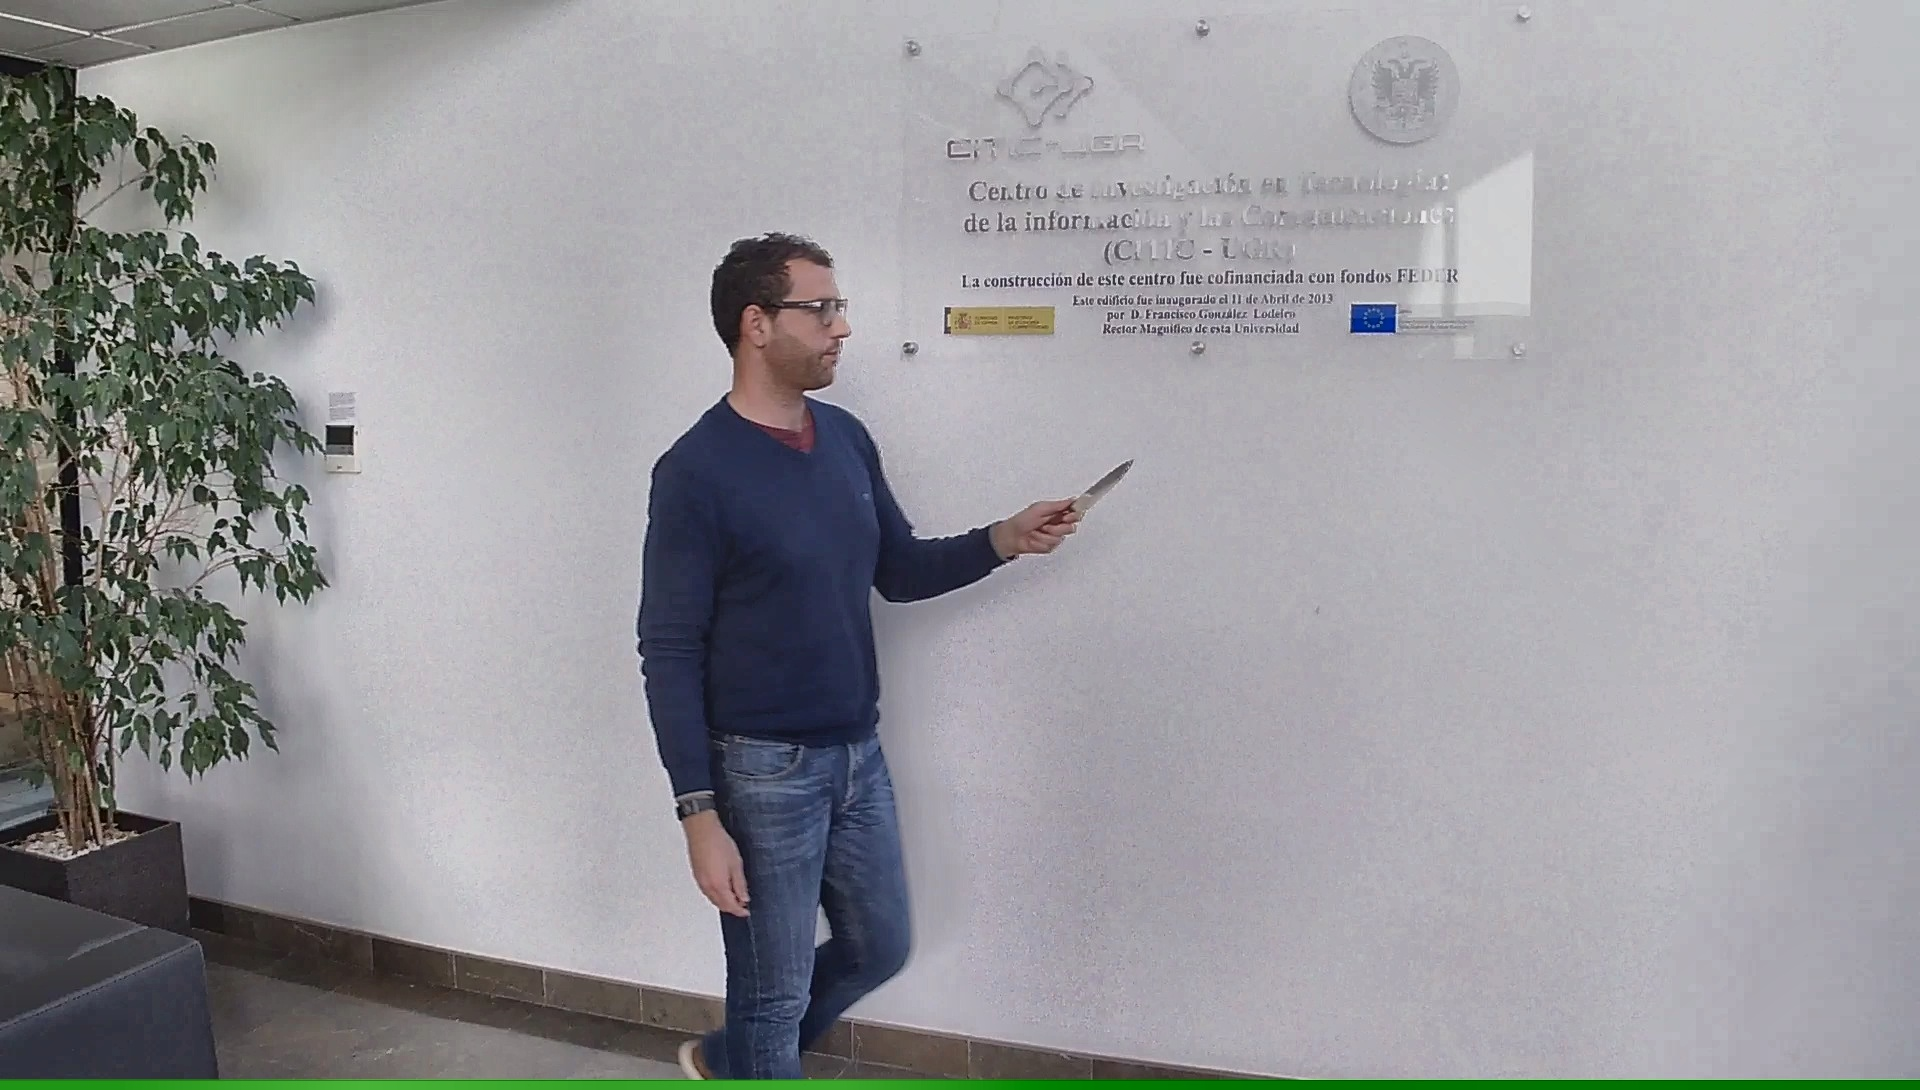knife: (1033, 449, 1146, 548)
